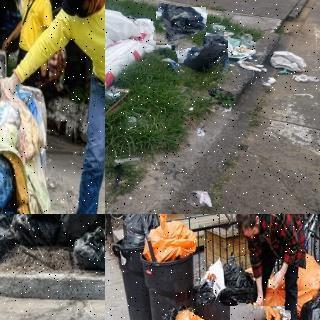Garbage: (140, 214, 201, 264), (214, 257, 259, 320), (176, 34, 230, 76), (155, 5, 207, 47), (72, 221, 105, 272), (121, 214, 165, 250), (59, 214, 105, 243), (297, 285, 320, 320)
